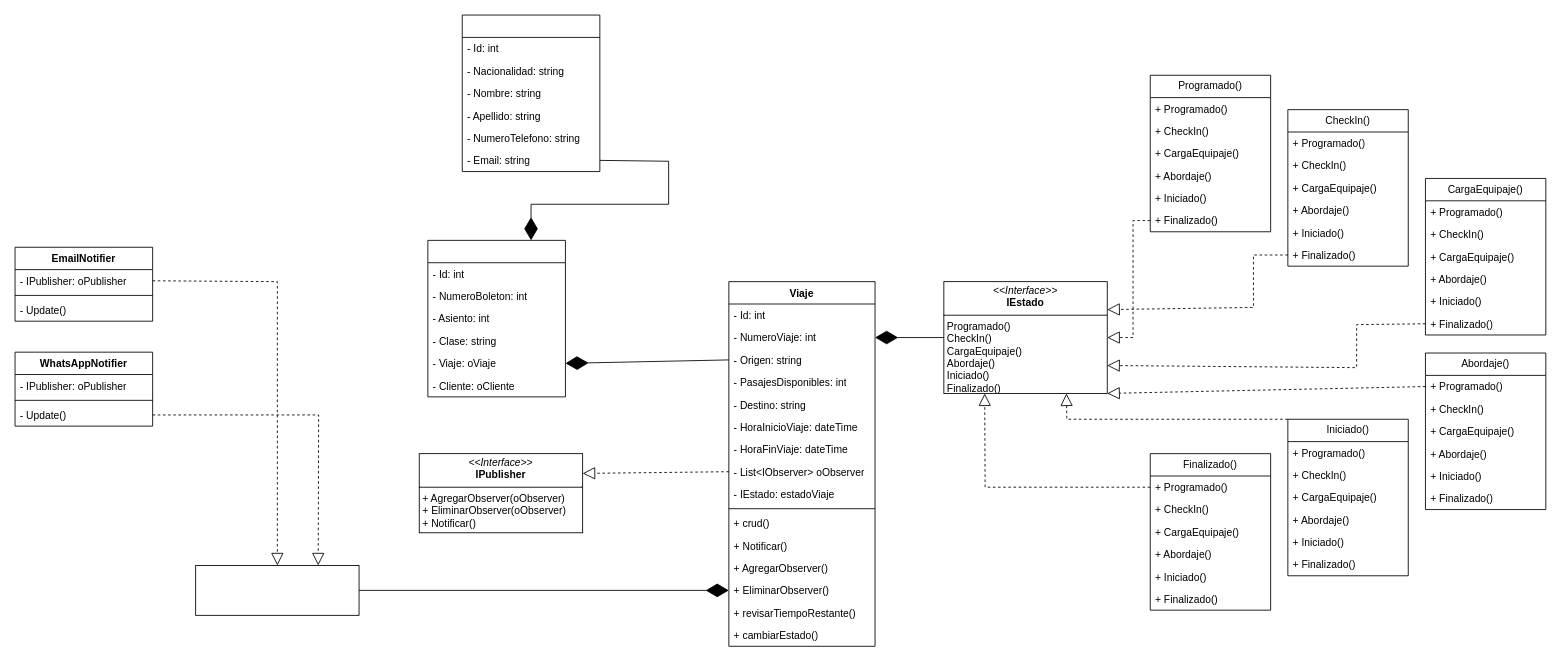
Image size: 1561x664. Some labels were removed from this diagram. The box of each missing label's shape, as (x1, y1, x2, y2) in pixels:
<<Interface>> IObserver - Update(): (195, 565, 359, 615)
Cliente: (461, 14, 600, 172)
Pasaje: (427, 240, 565, 397)
